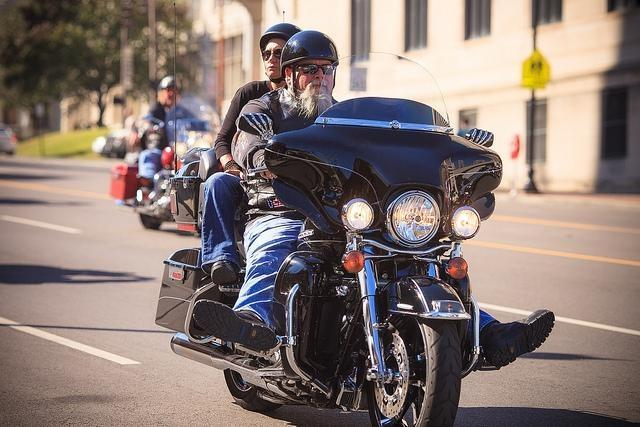car: (91, 128, 127, 158), (0, 123, 18, 155)
motorcycle: (154, 95, 506, 421), (109, 92, 222, 231), (172, 148, 225, 231)
